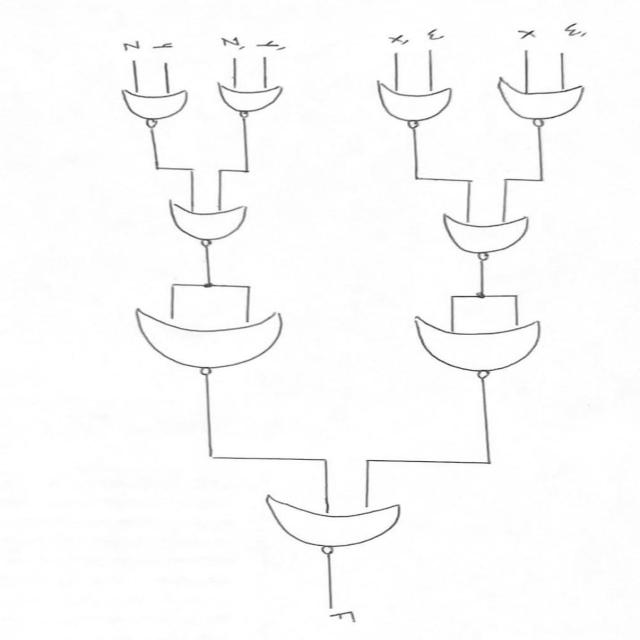NOR: (116, 299, 307, 388), (251, 481, 425, 568), (401, 307, 565, 383), (430, 204, 558, 266), (152, 187, 259, 257), (488, 72, 600, 133), (370, 75, 463, 134), (208, 75, 300, 125), (106, 84, 194, 132)
